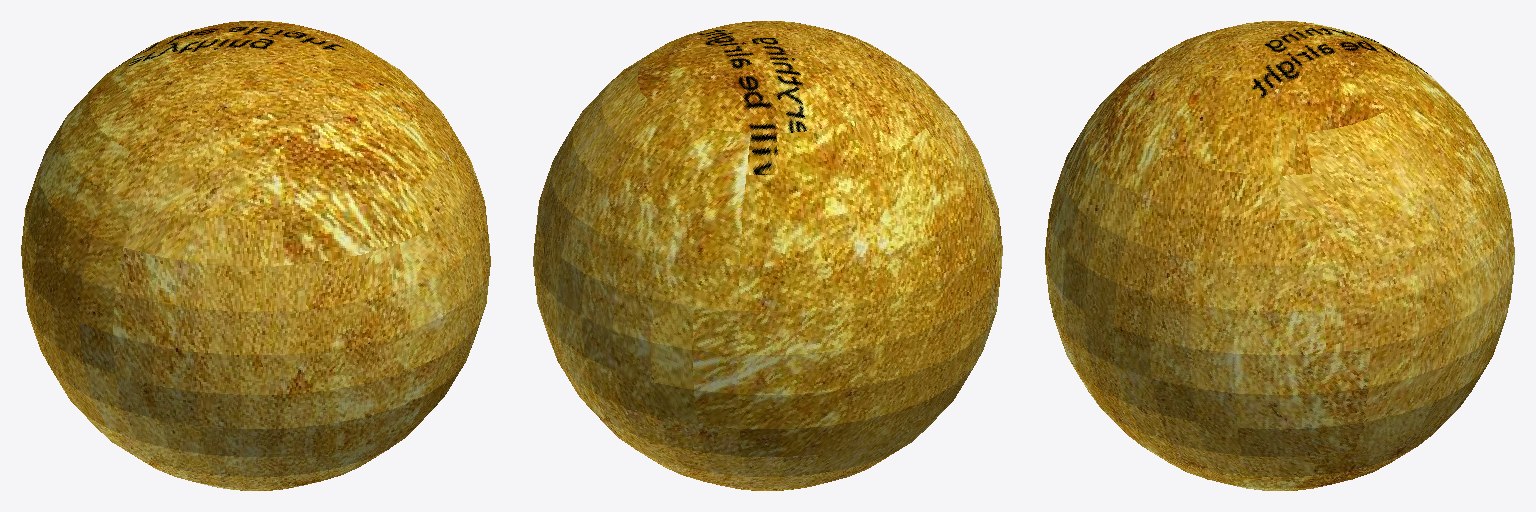
The picture shows the model from 3 angles: view 1: azimuth 30°, elevation 25°; view 2: azimuth 150°, elevation 25°; view 3: azimuth 270°, elevation 25°; orthographic projection.
Visible parts, largest first — view 1: Sphere; view 2: Sphere; view 3: Sphere.
Part boxes in pixels (x1,y1,x2,y2): Sphere: (21, 21, 490, 490); Sphere: (533, 21, 1002, 490); Sphere: (1045, 21, 1514, 490).
Bounding box in the file's own units: 2 × 2 × 2.
Materials: 1 (1 with a texture image).